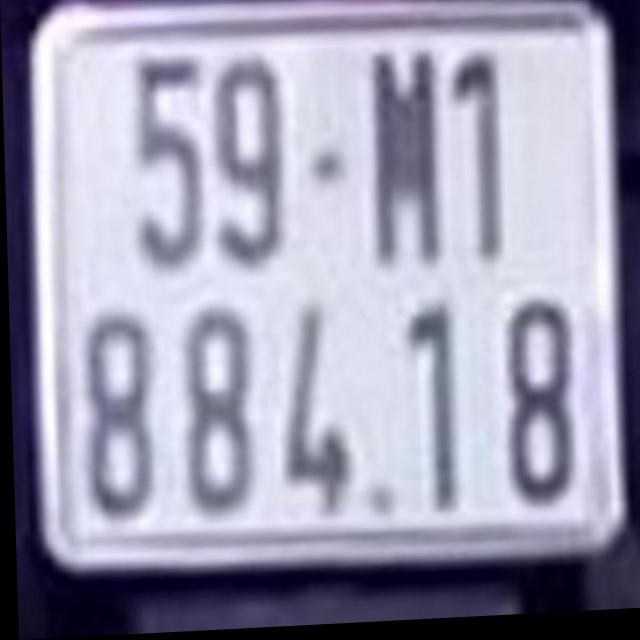1: (454, 50, 504, 257), (408, 303, 455, 521)
4: (282, 306, 348, 522)
5: (130, 55, 201, 267)
8: (80, 315, 151, 510), (507, 304, 573, 510), (187, 314, 251, 509)
9: (214, 55, 284, 264)
M: (368, 48, 439, 256)
